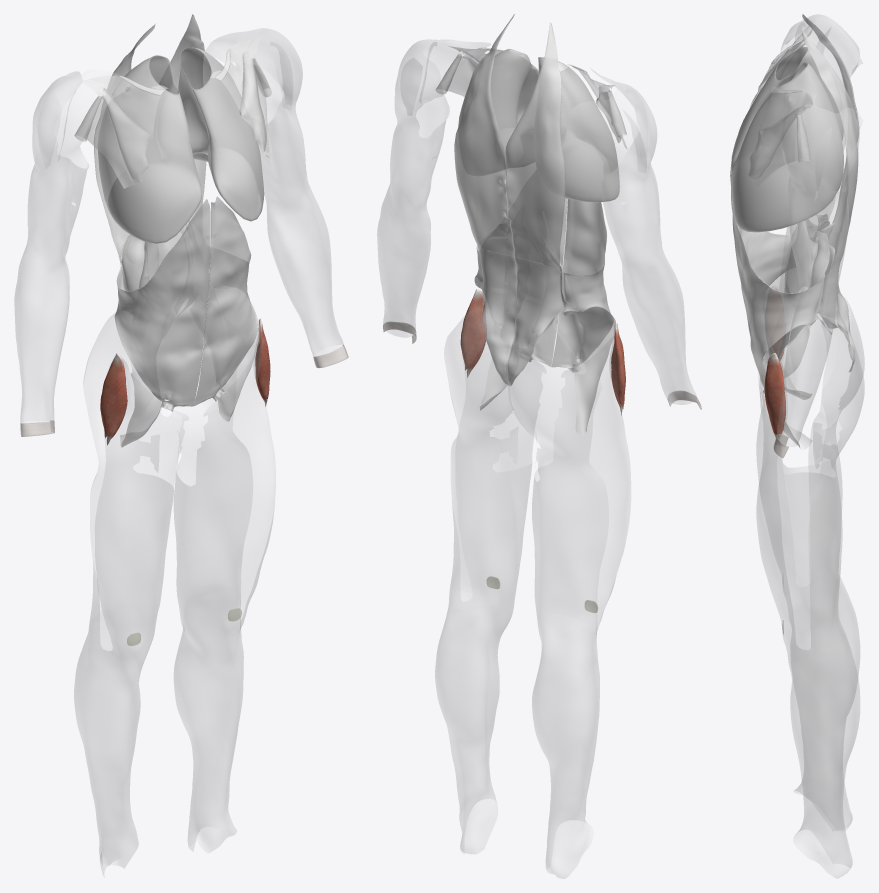
The model's file is fascia_at.glb.
3 renders of one model, left to right at view 1: azimuth 30°, elevation 25°; view 2: azimuth 150°, elevation 25°; view 3: azimuth 270°, elevation 25°, orthographic. The views are drawn at different scales.
Parts seen in each view (by area): view 1: Fascia lata.l, Fascia lata.r, Endothoracic fascia.r, Transversalis fascia.r, Crural fascia.l, Crural fascia.r, Brachial fascia.r, Endothoracic fascia.l, Transversalis fascia.l, Brachial fascia.l, Antebrachial fascia.r, Antebrachial fascia.l (+10 smaller); view 2: Fascia lata.r, Fascia lata.l, Crural fascia.r, Crural fascia.l, Brachial fascia.r, Thoracolumbar fascia (cervical and thoracic part).r, Endothoracic fascia.r, Brachial fascia.l, Endothoracic fascia.l, Thoracolumbar fascia (cervical and thoracic part).l, Transversalis fascia.r, Antebrachial fascia.r (+12 smaller); view 3: Fascia lata.l, Crural fascia.l, Endothoracic fascia.l, Crural fascia.r, Brachial fascia.l, Fascia lata.r, Antebrachial fascia.l, Transversalis fascia.l, Transversalis fascia.r, Clavipectoral fascia.l, Iliopsoas fascia.l, Thoracolumbar fascia (cervical and thoracic part).l (+11 smaller).
Part boxes in pixels (x1,y1,x2,y2): Fascia lata.l: [166, 327, 275, 636]; Fascia lata.r: [83, 314, 187, 661]; Endothoracic fascia.r: [97, 55, 201, 243]; Transversalis fascia.r: [114, 199, 210, 411]; Crural fascia.l: [174, 614, 243, 852]; Crural fascia.r: [74, 611, 149, 876]; Brachial fascia.r: [24, 70, 131, 265]; Endothoracic fascia.l: [178, 47, 264, 221]; Transversalis fascia.l: [181, 196, 257, 406]; Brachial fascia.l: [206, 28, 309, 207]; Antebrachial fascia.r: [14, 253, 69, 422]; Antebrachial fascia.l: [267, 188, 343, 356]; Fascia lata.r: [506, 324, 630, 632]; Fascia lata.l: [444, 290, 533, 616]; Crural fascia.r: [532, 613, 599, 878]; Crural fascia.l: [435, 590, 510, 854]; Brachial fascia.r: [561, 69, 663, 270]; Thoracolumbar fascia (cervical and thoracic part).r: [505, 22, 565, 269]; Endothoracic fascia.r: [534, 57, 619, 202]; Brachial fascia.l: [386, 39, 490, 215]; Endothoracic fascia.l: [458, 48, 538, 175]; Thoracolumbar fascia (cervical and thoracic part).l: [454, 14, 514, 256]; Transversalis fascia.r: [536, 199, 613, 372]; Antebrachial fascia.r: [622, 254, 696, 404]; Fascia lata.l: [756, 324, 864, 653]; Crural fascia.l: [787, 611, 859, 877]; Endothoracic fascia.l: [731, 62, 843, 232]; Crural fascia.r: [787, 576, 859, 829]; Brachial fascia.l: [781, 89, 862, 291]; Fascia lata.r: [756, 297, 864, 600]; Antebrachial fascia.l: [777, 287, 837, 446]; Transversalis fascia.l: [730, 173, 831, 393]; Transversalis fascia.r: [730, 167, 828, 371]; Clavipectoral fascia.l: [748, 84, 812, 187]; Iliopsoas fascia.l: [761, 221, 817, 449]; Thoracolumbar fascia (cervical and thoracic part).l: [802, 31, 858, 272].
Bounding box in the file's own units: 0.5864 × 1.47 × 0.2164.
Materials: 6 (2 with a texture image).
